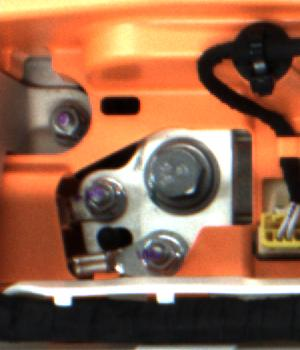nut_b: (141, 131, 233, 218)
screw_s: (46, 103, 86, 146), (138, 236, 177, 271), (83, 180, 121, 213)
